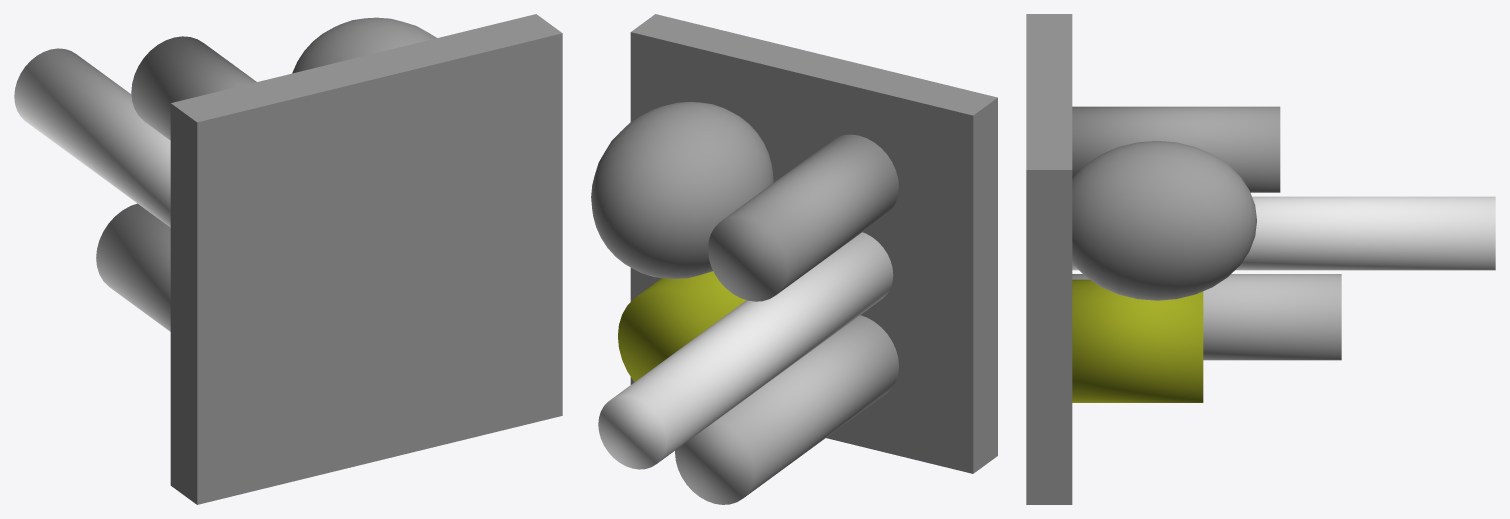
Rendered from factory.fbx.
3 views of the same model, side by side, from view 1: azimuth 30°, elevation 25°; view 2: azimuth 150°, elevation 25°; view 3: azimuth 270°, elevation 25° (orthographic). The views are drawn at different scales.
Parts seen in each view (by area): view 1: Cube; view 2: Cube; view 3: Cube.
Boxes of the visible parts, x1,y1,x2,y2 form: Cube: (14, 14, 562, 504); Cube: (591, 14, 997, 504); Cube: (1026, 14, 1495, 504).
Bounding box in the file's own units: 432 × 432 × 549.
